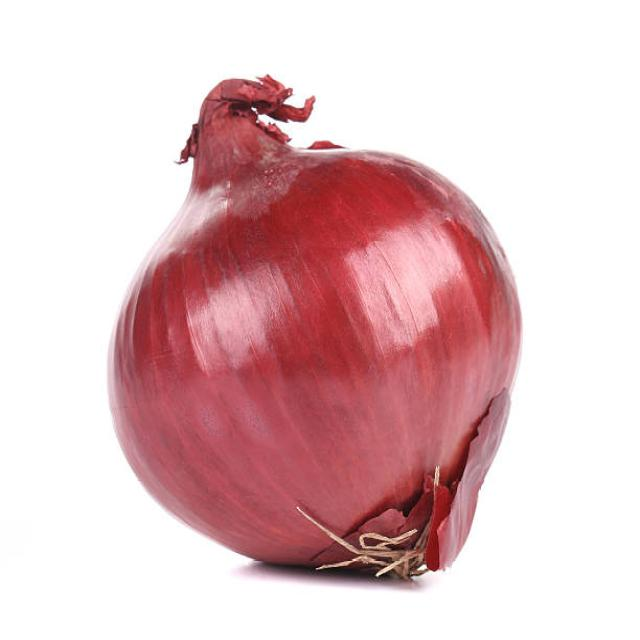onion: (108, 139, 526, 586)
